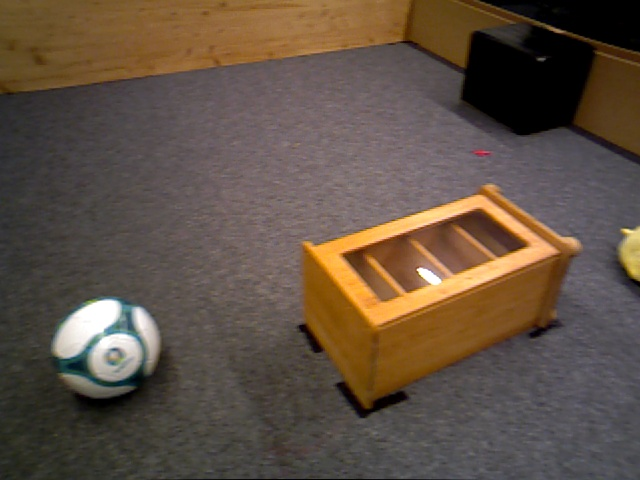grasp: (617, 222, 640, 282)
kick: (50, 296, 161, 403)
push: (469, 28, 594, 133)
